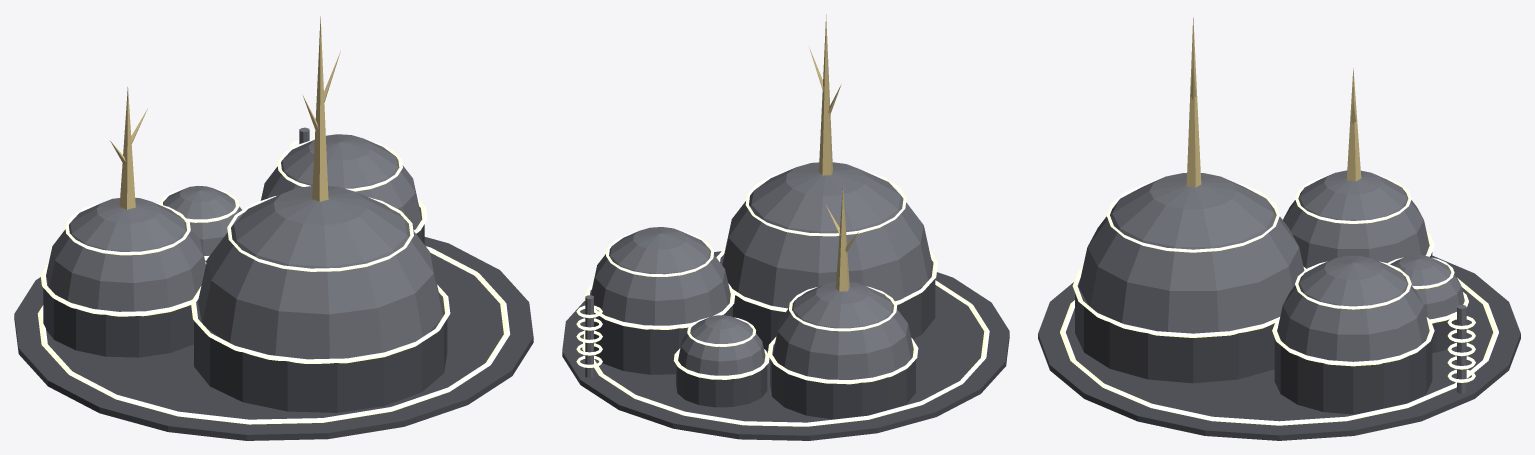
The model's file is zone_low_6_t5.glb.
The picture shows the model from 3 angles, left to right: view 1: azimuth 30°, elevation 25°; view 2: azimuth 150°, elevation 25°; view 3: azimuth 270°, elevation 25°; orthographic projection. The views are drawn at different scales.
Parts seen in each view (by area): view 1: zone_low_6_t5, detail; view 2: zone_low_6_t5, detail; view 3: zone_low_6_t5, detail.
Part boxes in pixels (left/top/right/bottom): zone_low_6_t5: left=14, top=16, right=533, bottom=440; detail: left=37, top=51, right=510, bottom=424; zone_low_6_t5: left=562, top=14, right=1009, bottom=440; detail: left=576, top=47, right=989, bottom=426; zone_low_6_t5: left=1038, top=17, right=1520, bottom=440; detail: left=1060, top=63, right=1498, bottom=425.
Bounding box in the file's own units: 19.6 × 14.56 × 19.6.
